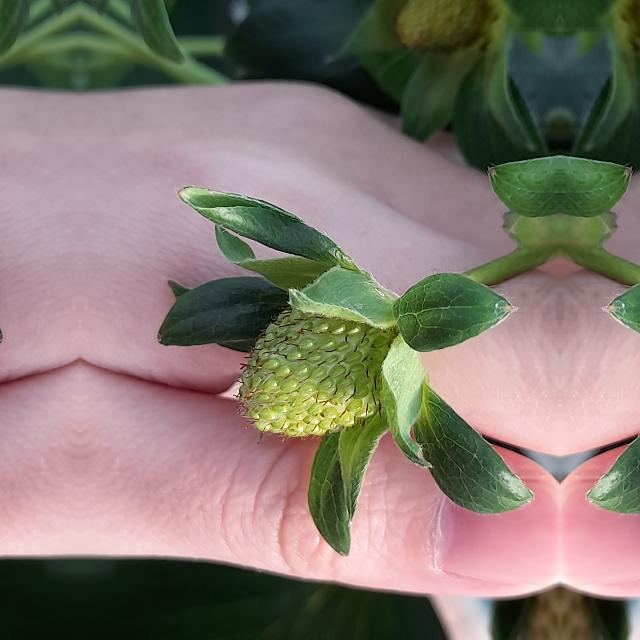Health_25: (232, 299, 396, 441)
